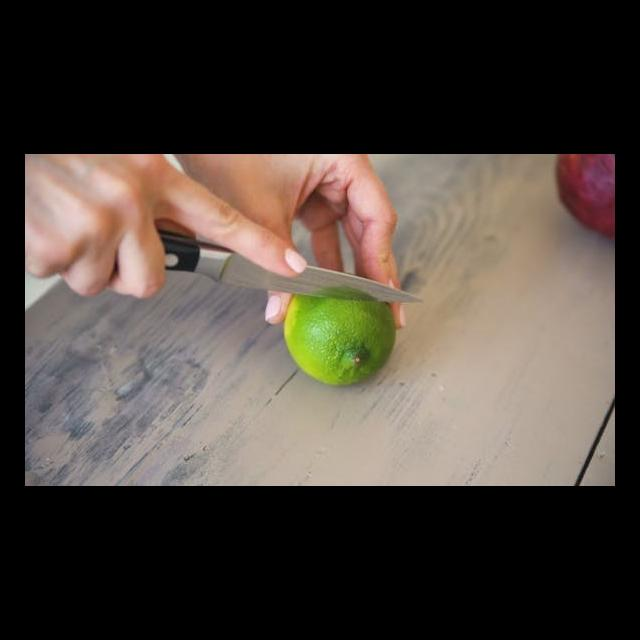lime: (268, 268, 411, 391)
